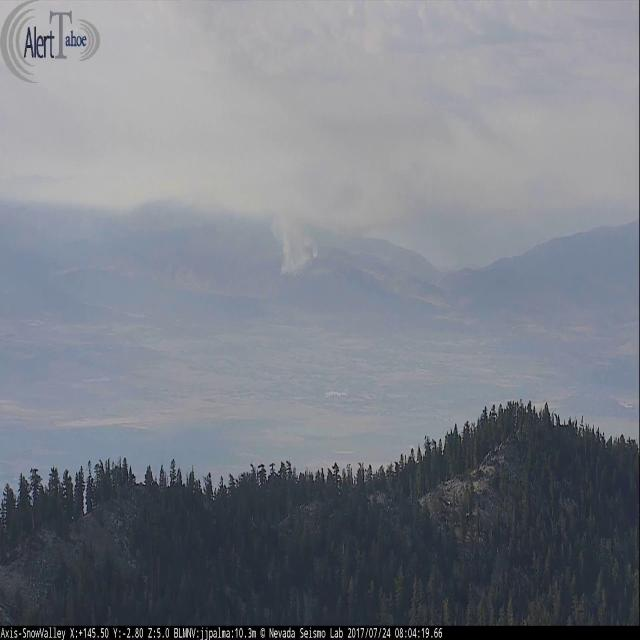smoke: (272, 206, 320, 276)
